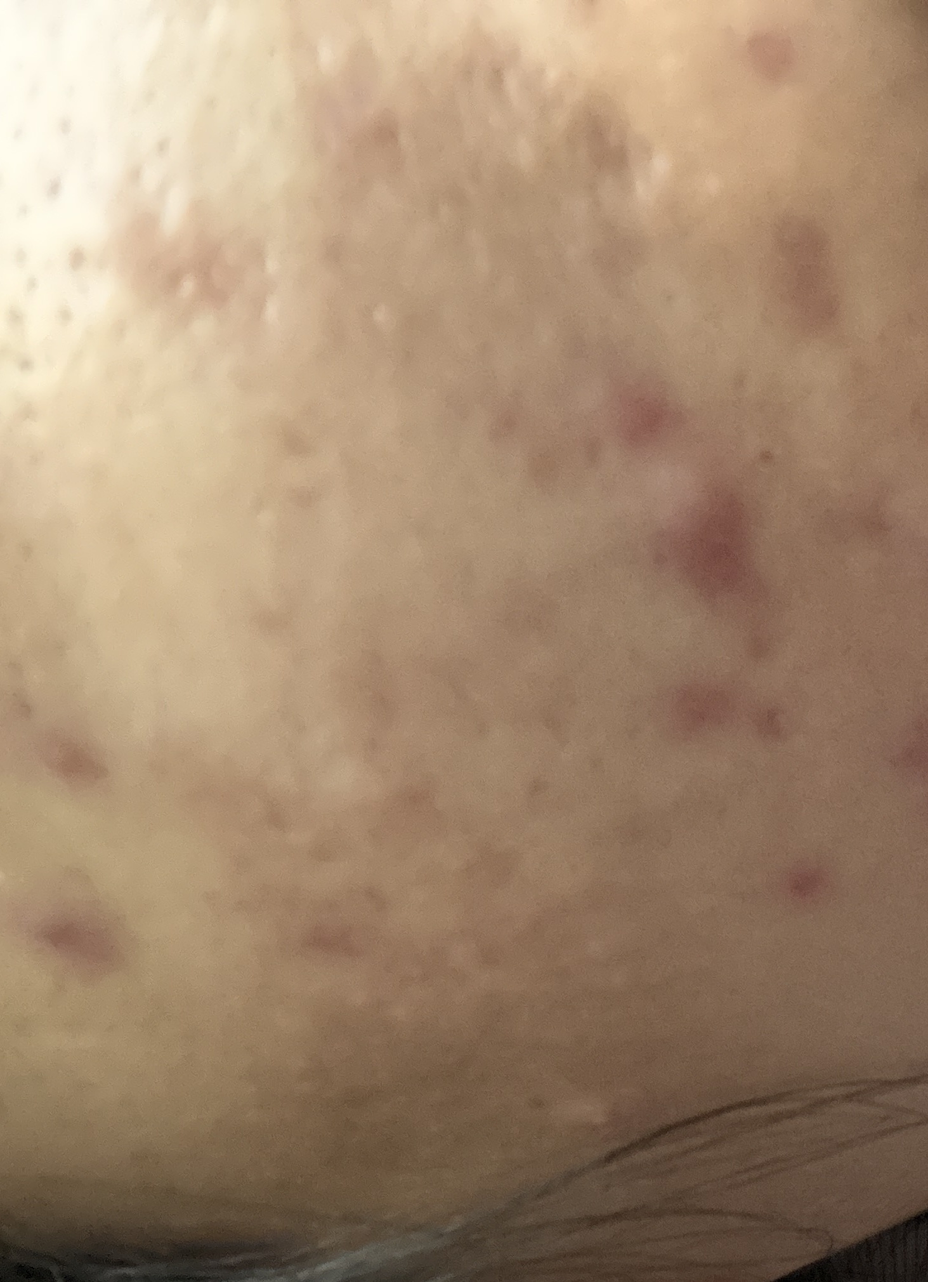nodule: (625, 452, 796, 625)
papule: (20, 873, 138, 1010), (726, 832, 879, 913), (650, 674, 802, 754)
